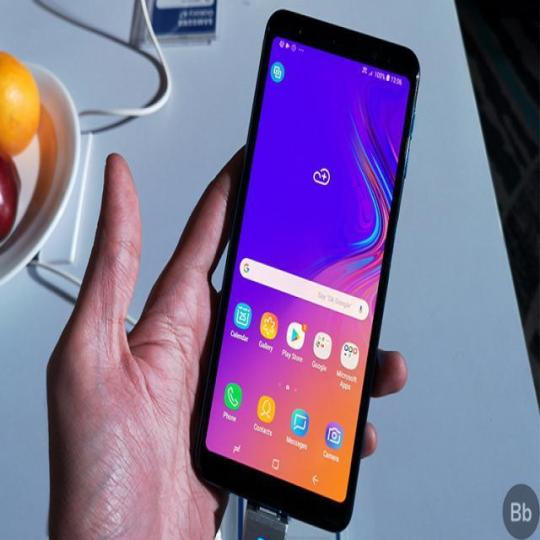phone: (188, 0, 425, 536)
